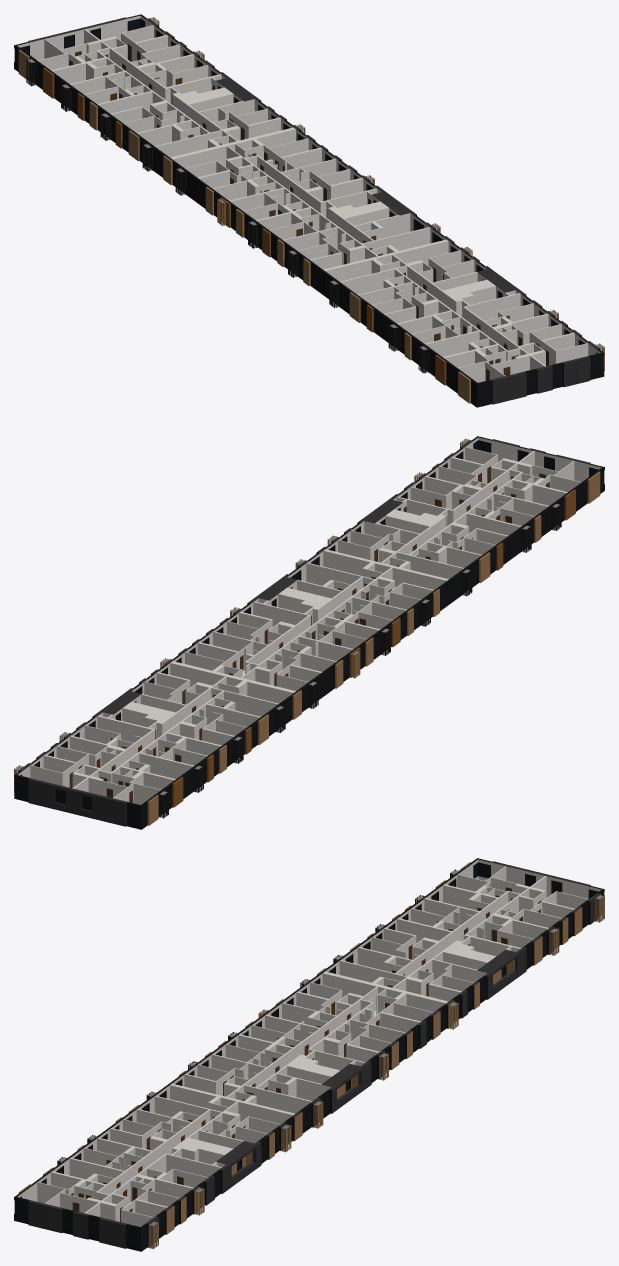
File: floor_21.FBX
3 views of the same model, one above another, from view 1: azimuth 30°, elevation 25°; view 2: azimuth 150°, elevation 25°; view 3: azimuth 330°, elevation 25° (orthographic).
Visible parts, largest first — view 1: floor_21; view 2: floor_21; view 3: floor_21.
Boxes of the visible parts, x1,y1,x2,y2 form: floor_21: (14,14,604,407); floor_21: (14,436,604,829); floor_21: (14,858,604,1251).
Size of the model in its own units: 18.55 by 3 by 108.
